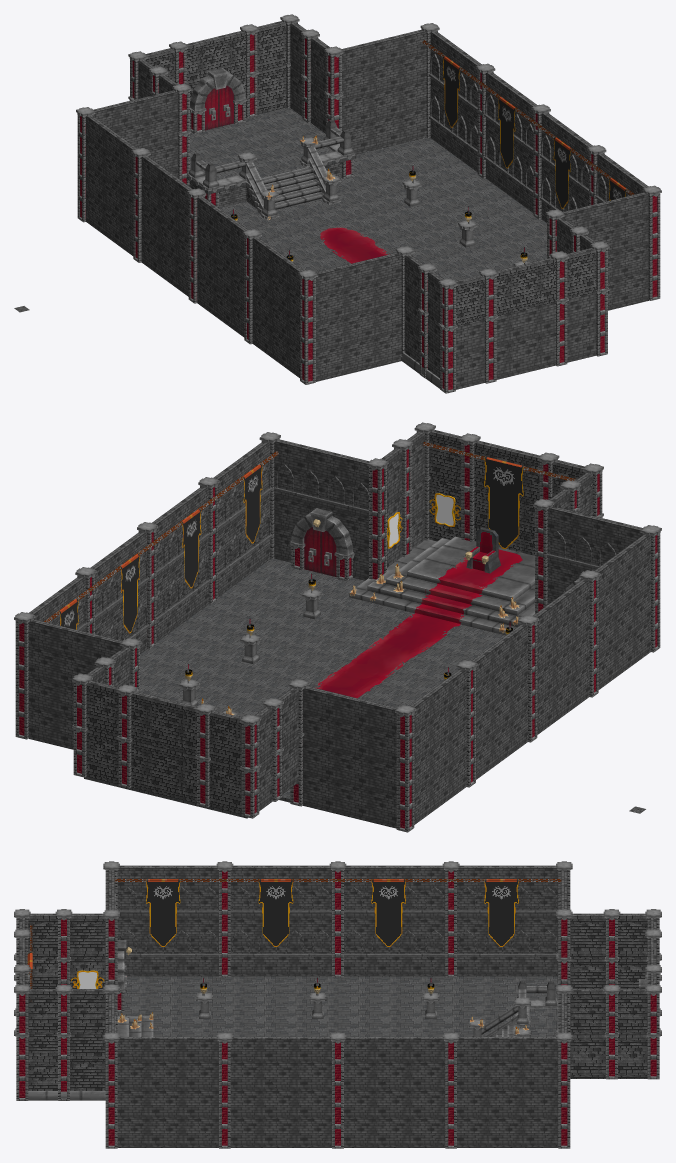
File: DarkLordAnd6Kings.fbx
3 renders of one model, top to bottom at view 1: azimuth 30°, elevation 25°; view 2: azimuth 150°, elevation 25°; view 3: azimuth 270°, elevation 25°, orthographic. The views are drawn at different scales.
Visible parts, largest first — view 1: Paredes, Suelo, Columnas, Escaleras, Estandartes, Arcos, Puertas, Alfombra, BasesCabezas, Cadenas; view 2: Paredes, Columnas, Suelo, BaseTrono, Alfombra, Estandartes, Arcos, Puertas, Cadenas, BasesCabezas, Espejos, Trono; view 3: Paredes, Columnas, Suelo, Estandartes, Arcos, Escaleras, BaseTrono, Cadenas, BasesCabezas, Puertas, Espejos.
Part boxes in pixels (x1,y1,x2,y2): Paredes: (86,21,648,389); Suelo: (186,107,648,381); Columnas: (76,14,661,393); Escaleras: (187,119,355,219); Estandartes: (443,55,626,208); Arcos: (428,54,628,211); Puertas: (190,68,246,134); Alfombra: (320,227,389,263); BasesCabezas: (232,165,529,266); Cadenas: (317,40,645,284); Paredes: (28,430,650,828); Columnas: (14,422,661,832); Suelo: (29,558,505,828); BaseTrono: (349,536,534,635); Alfombra: (315,549,522,698); Estandartes: (58,456,524,633); Arcos: (50,464,615,640); Puertas: (289,508,580,592); Cadenas: (44,442,592,622); BasesCabezas: (178,573,511,705); Espejos: (387,493,460,548); Trono: (465,527,500,573); Paredes: (19,865,656,1147); Columnas: (14,861,661,1148); Suelo: (117,976,647,1147); Estandartes: (27,879,518,974); Arcos: (114,887,557,1032); Escaleras: (469,981,558,1036); BaseTrono: (28,1016,153,1100); Cadenas: (30,879,561,1001); BasesCabezas: (196,977,439,1018); Puertas: (117,940,647,1012); Espejos: (71,970,104,988).
Bounding box in the file's own units: 9740 × 2131 × 10880.
17 materials, 17 textured.
